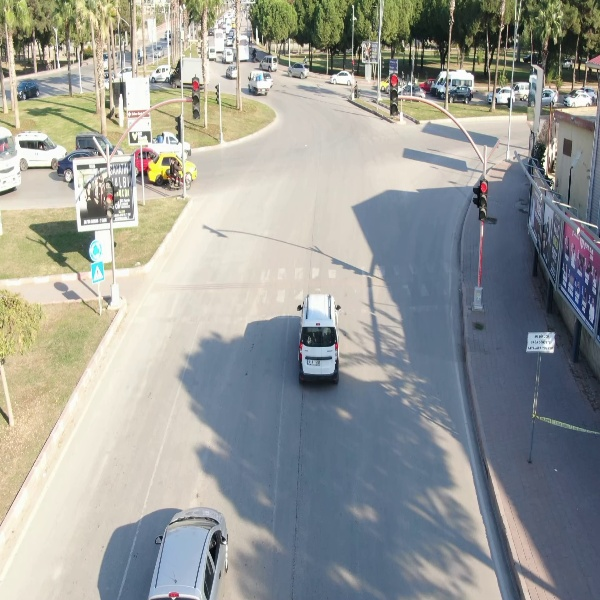car: (296, 289, 346, 388), (13, 129, 72, 171), (17, 74, 40, 102), (446, 85, 474, 108), (562, 88, 594, 108), (285, 61, 314, 79), (330, 69, 357, 88), (149, 63, 174, 83), (258, 52, 279, 74)
